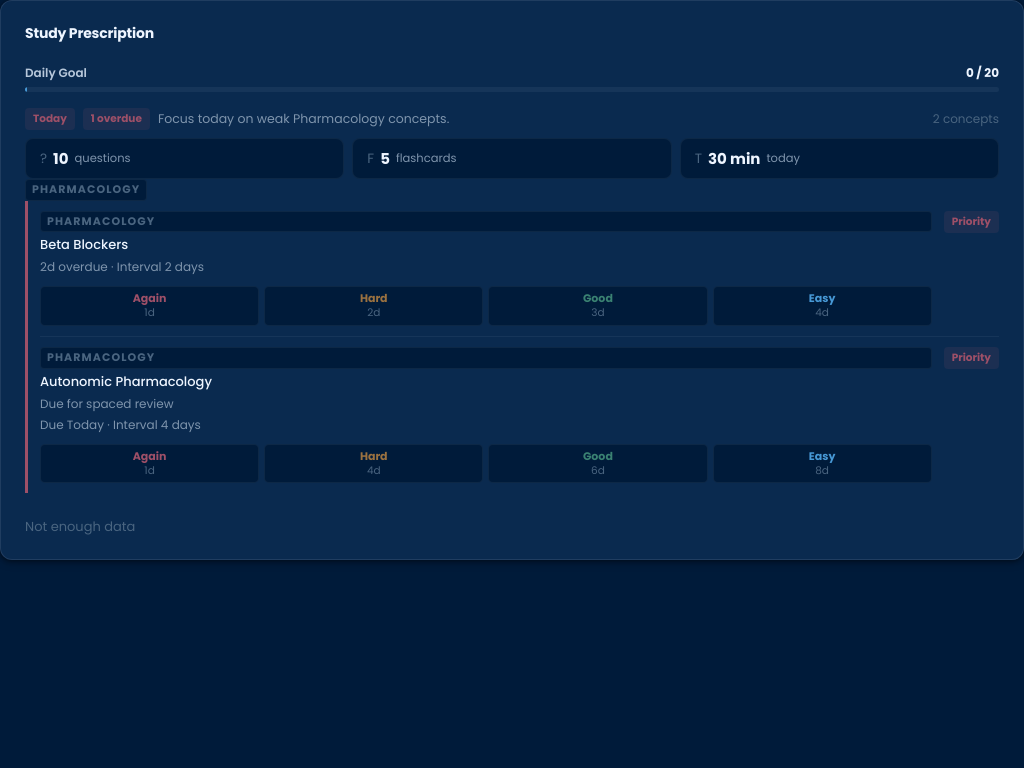
Test: StudyPrescriptionPanel — unified review queue (Phase 5.4) › dismissing a due item removes it from the queue without affecting other items
Expected: the text "Beta Blockers" is shown, [40,235,128,254]
Expected: the text "Autonomic Pharmacology" is shown, [40,372,212,391]
Rate the due item (Beta Blockers is first — click its Good button)
Click the button "Good 3d": (598, 306) [488,286,708,326]
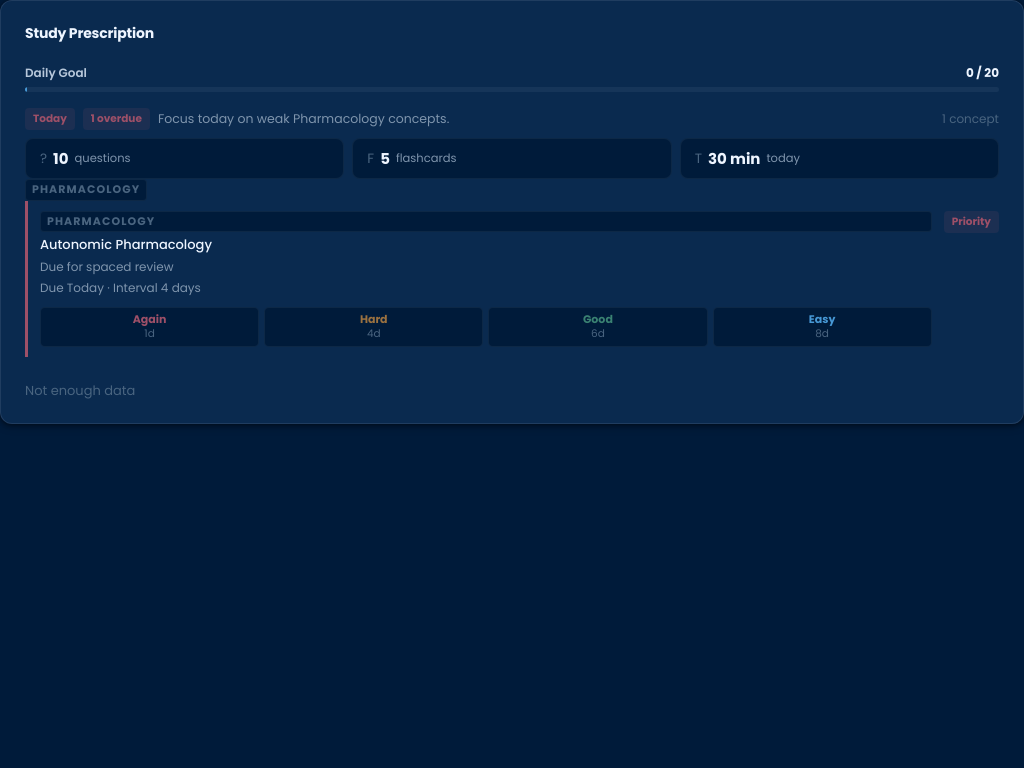
Expected: the text "Autonomic Pharmacology" is shown, [40,235,212,254]
Expected: the text "Beta Blockers" is gone
